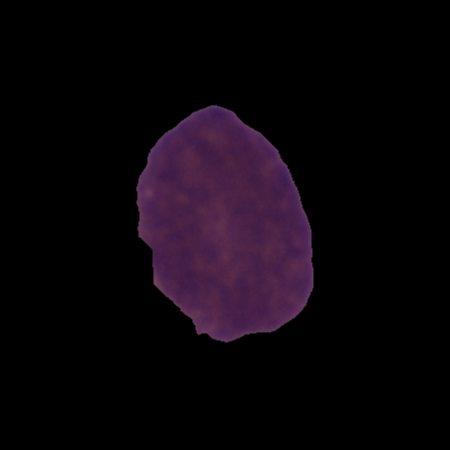HEM: (132, 102, 318, 344)
